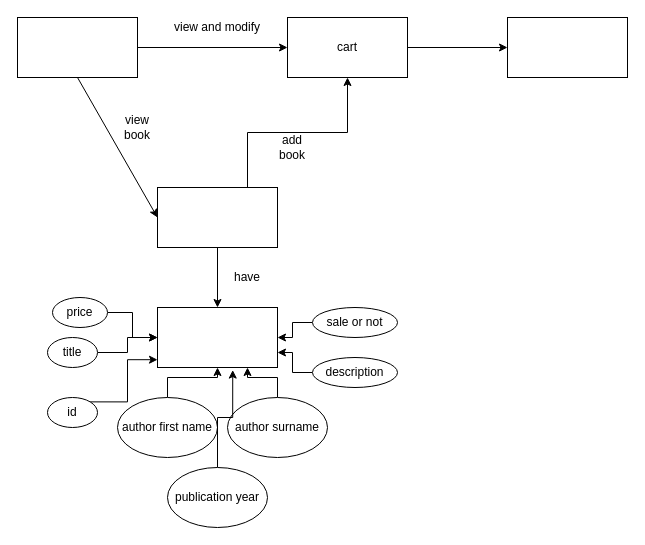
Image size: 645x545. Some labels were removed from this diagram. The shapes that lost their labels are listed below. From the top down, each one's centre as x and y in pixels, then its label:
At (x=77, y=47): "user".
At (x=567, y=47): "checkout".
At (x=217, y=217): "store".
At (x=217, y=337): "book".
